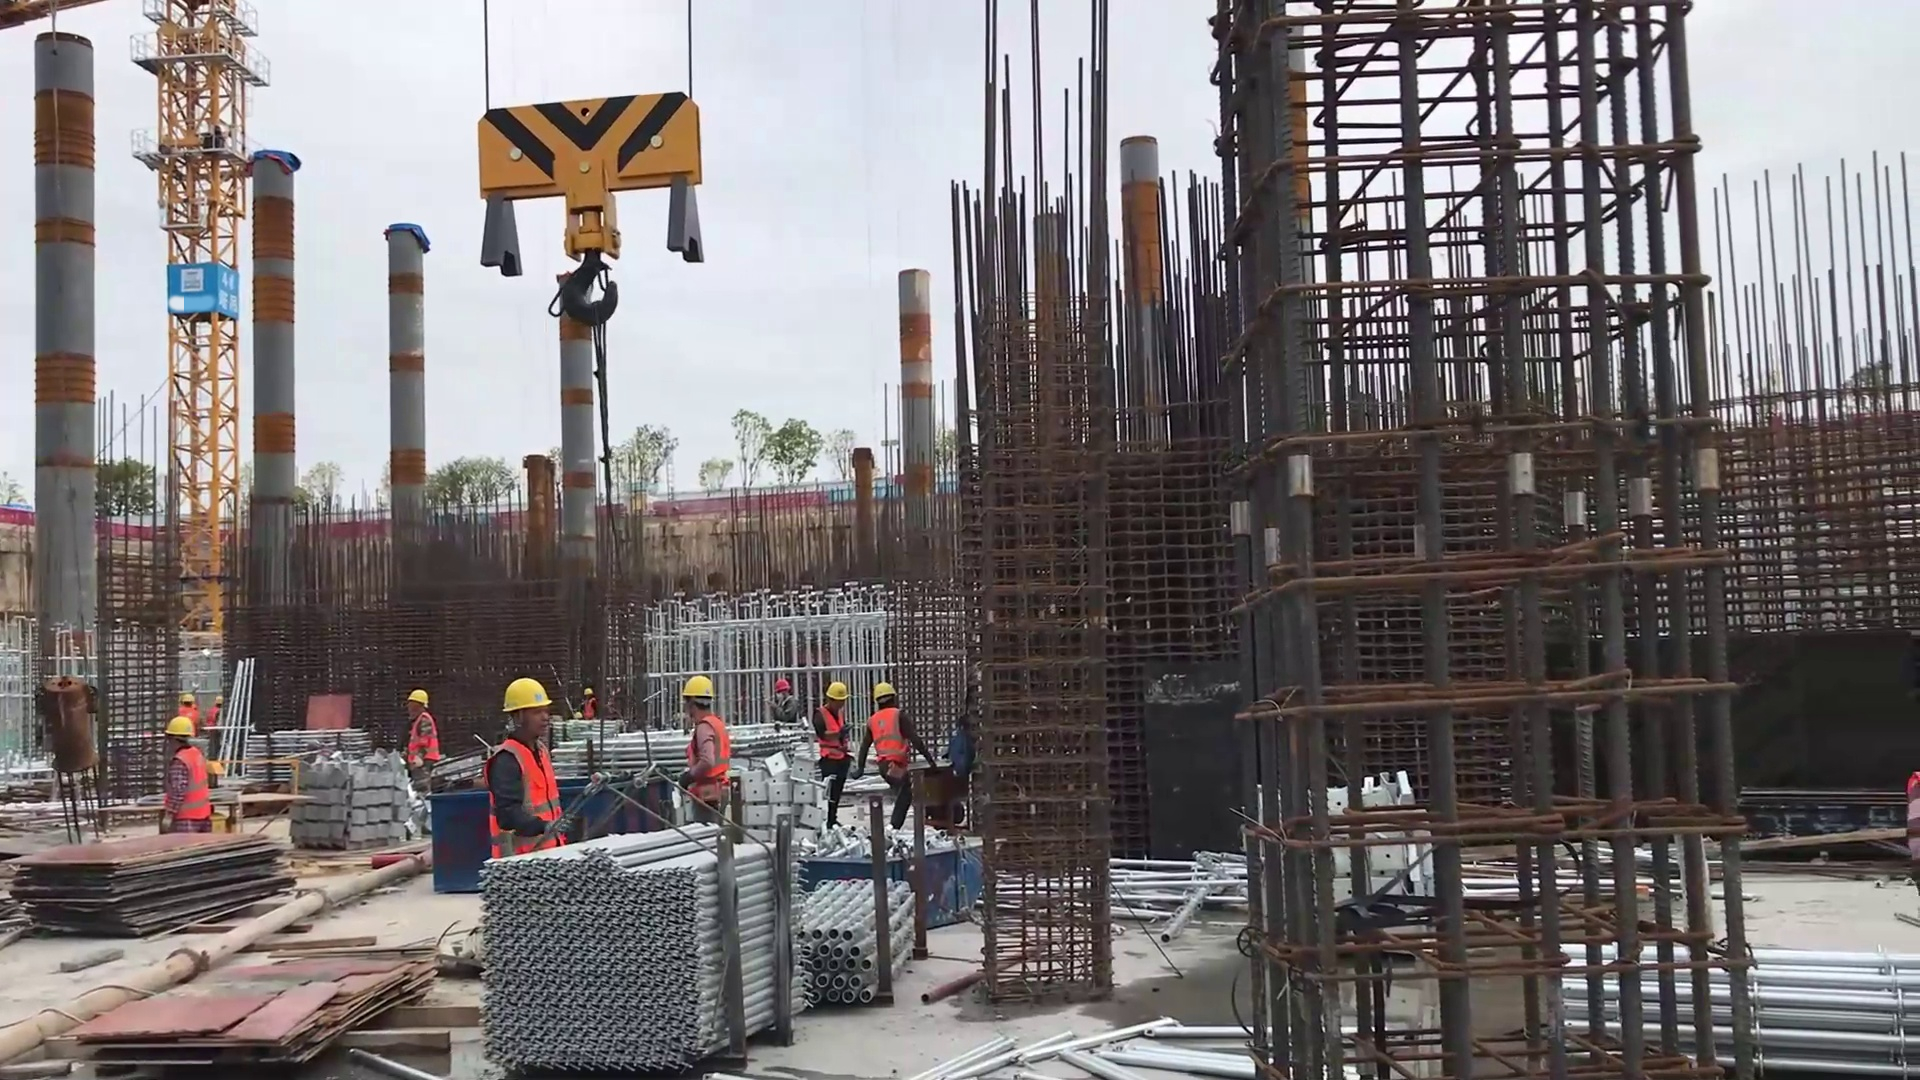board: (98, 945, 436, 1073), (1, 831, 306, 937)
helmet: (497, 672, 548, 729), (675, 665, 740, 691), (167, 714, 208, 750), (819, 683, 865, 710), (401, 681, 435, 708), (867, 680, 890, 711)
hook: (456, 83, 719, 323)
hopper: (800, 819, 1006, 934)
person: (475, 666, 586, 843), (656, 654, 738, 842), (856, 668, 943, 826), (782, 679, 858, 815), (159, 708, 227, 830), (390, 681, 443, 792)
scaffold: (450, 814, 815, 1060), (767, 784, 943, 1001)
